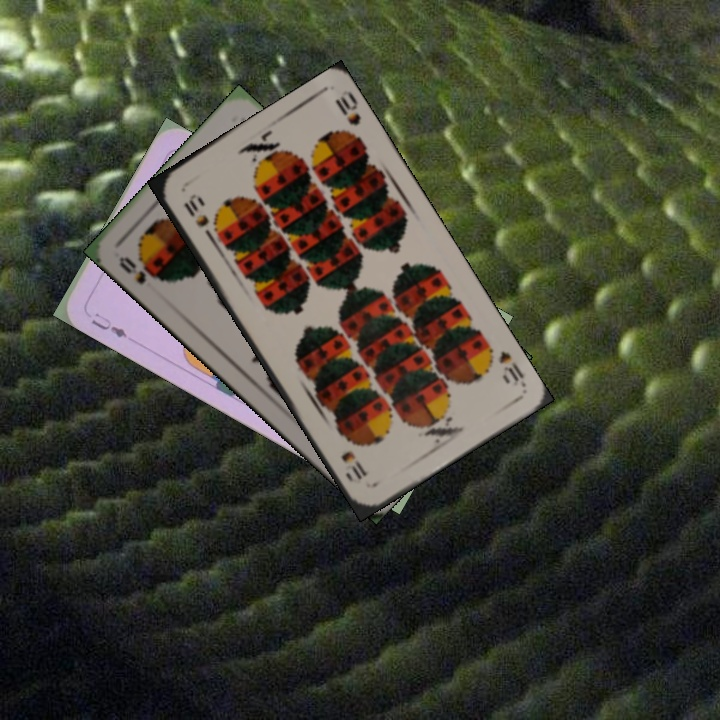EU: (87, 308, 130, 341)
S10: (179, 191, 216, 242), (494, 347, 528, 389)
SO: (115, 252, 165, 287)
